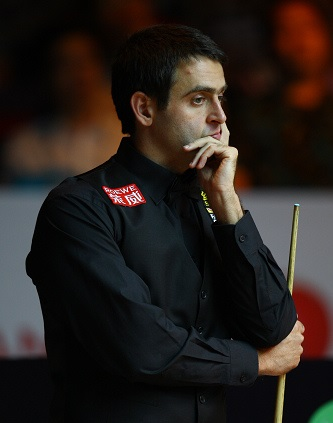face: (156, 51, 228, 167)
